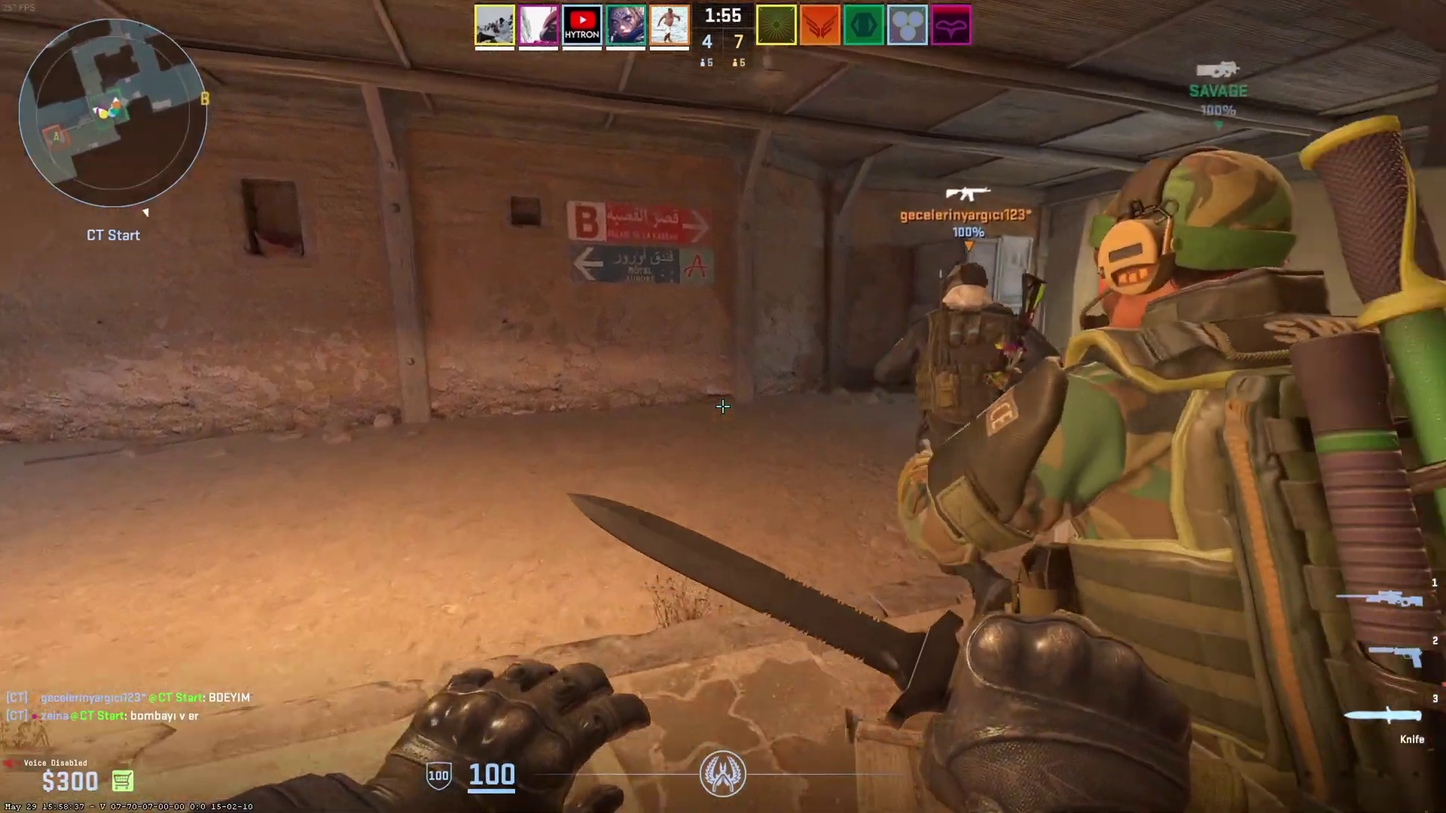CT: (1026, 147, 1446, 811), (908, 261, 1022, 449)
